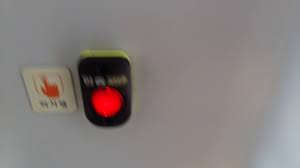bell: (74, 47, 137, 130)
